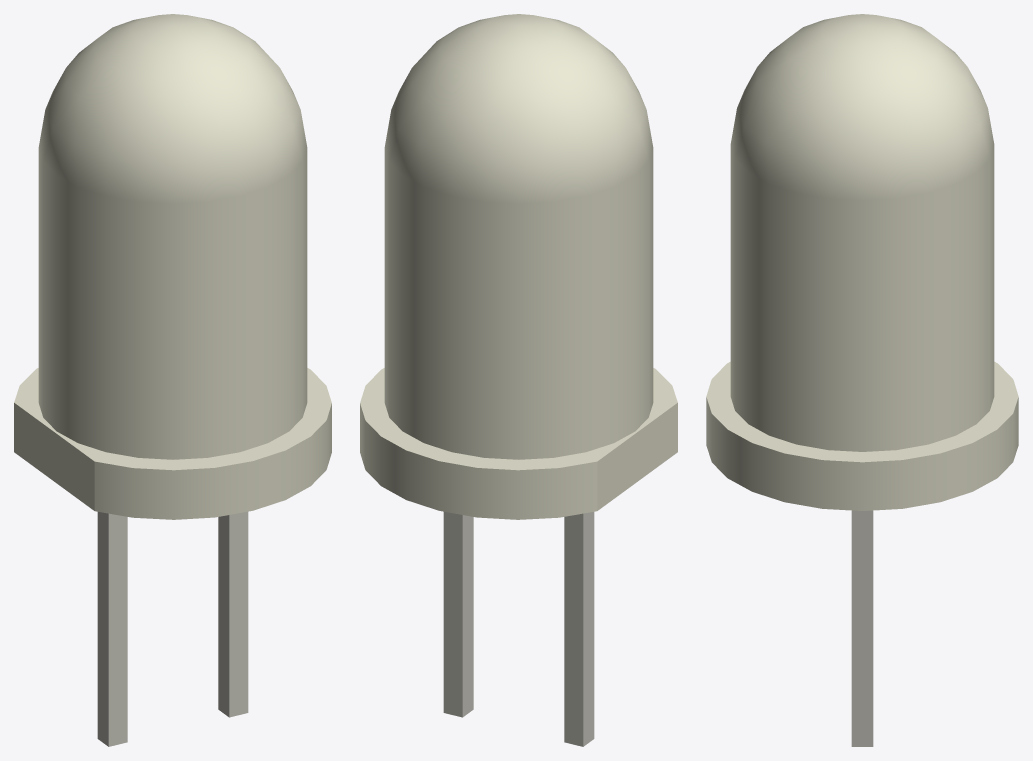
File: LED_THT__LED_D5.0mm_Clear.glb
3 views of the same model, side by side, from view 1: azimuth 30°, elevation 25°; view 2: azimuth 150°, elevation 25°; view 3: azimuth 270°, elevation 25° (orthographic).
Parts seen in each view (by area): view 1: LED_D5.0mm_Clear; view 2: LED_D5.0mm_Clear; view 3: LED_D5.0mm_Clear.
Part boxes in pixels (<box>): LED_D5.0mm_Clear: <box>14,14,331,746</box>; LED_D5.0mm_Clear: <box>360,14,677,746</box>; LED_D5.0mm_Clear: <box>706,14,1018,746</box>.
Bounding box in the file's own units: 0.0054 × 0.0141 × 0.0058.
